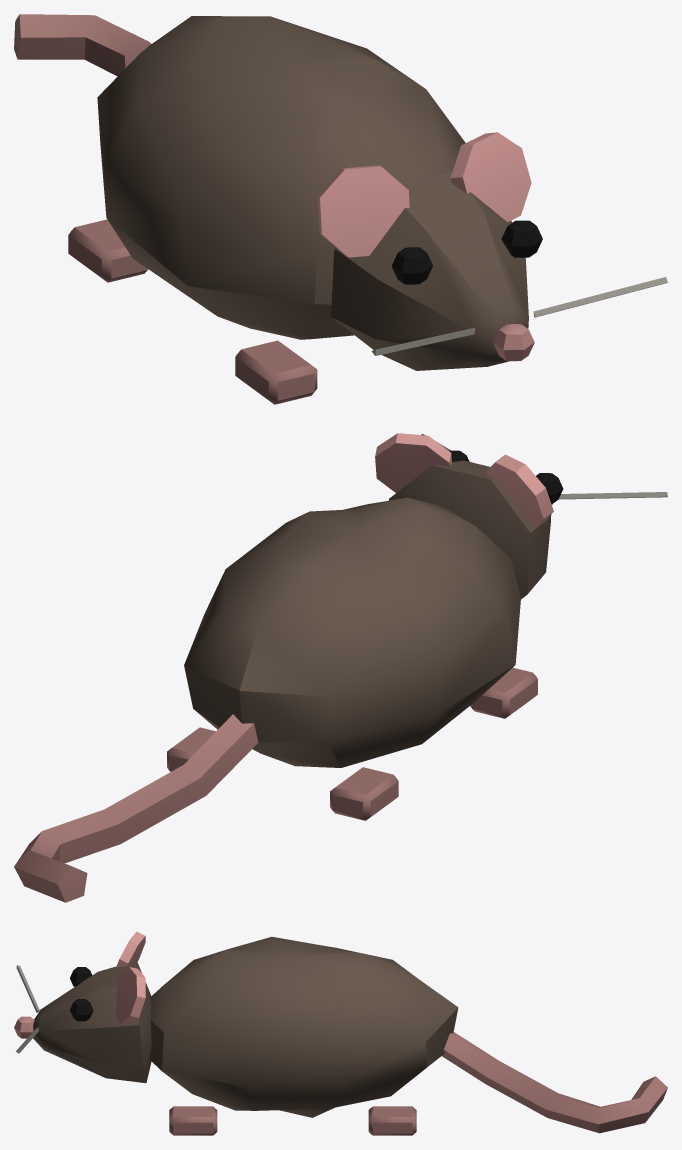
Rendered from 33_rat.fbx.
The picture shows the model from 3 angles, top to bottom: view 1: azimuth 30°, elevation 25°; view 2: azimuth 150°, elevation 25°; view 3: azimuth 270°, elevation 25°; orthographic projection. The views are drawn at different scales.
Parts seen in each view (by area): view 1: Rat; view 2: Rat; view 3: Rat.
Boxes of the visible parts, <box> form: Rat: <box>14,14,667,404</box>; Rat: <box>14,433,667,902</box>; Rat: <box>14,931,667,1135</box>.
Bounding box in the file's own units: 0.14 × 0.112 × 0.448.
1 material, 1 textured.
